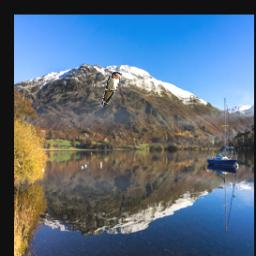Swallow: (99, 72, 122, 108)
